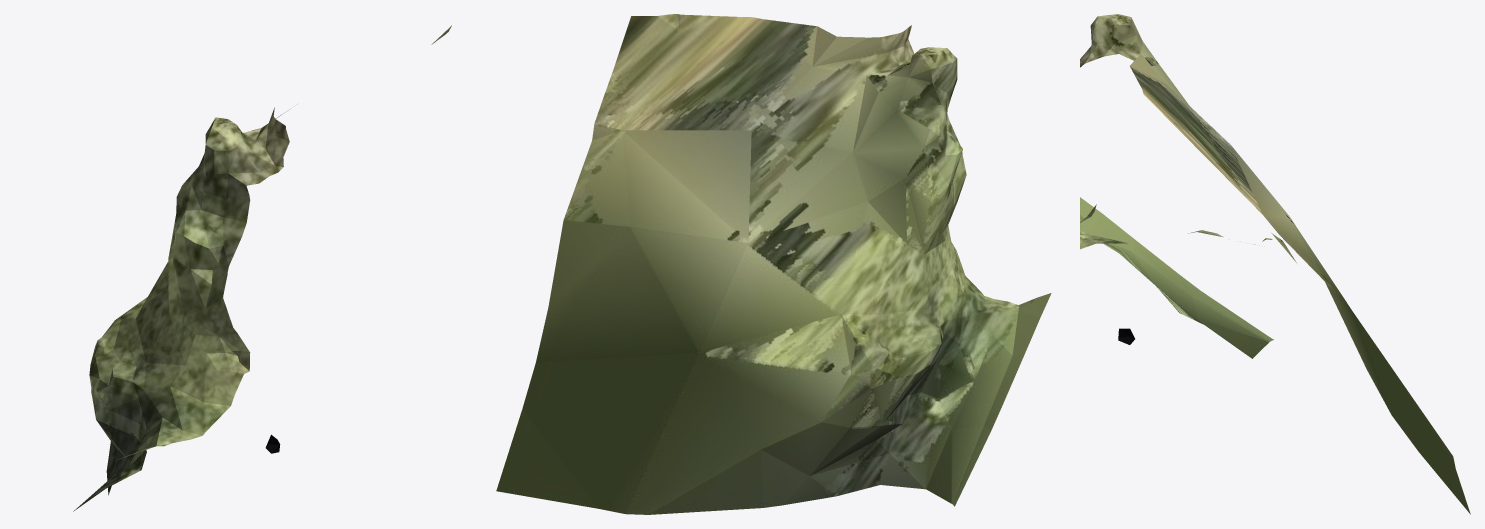
The picture shows the model from 3 angles, left to right: view 1: azimuth 30°, elevation 25°; view 2: azimuth 150°, elevation 25°; view 3: azimuth 270°, elevation 25°; orthographic projection. The views are drawn at different scales.
Bounding box in the file's own units: 5.9 × 5.9 × 5.56.
3 materials, 3 textured.
